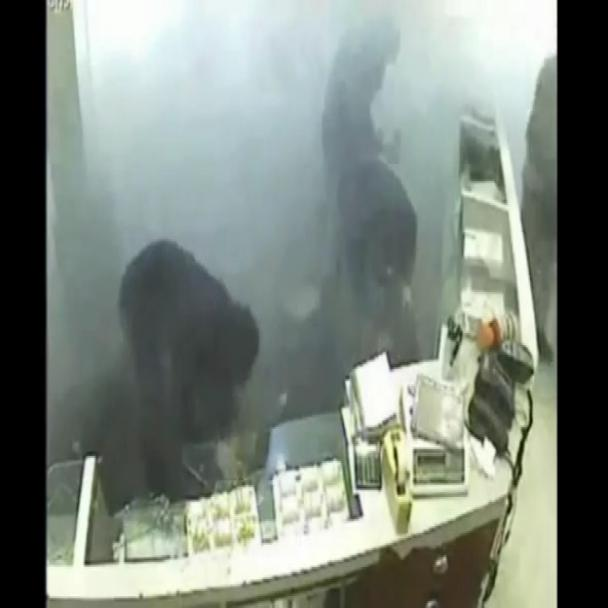smoke: (65, 0, 544, 526)
